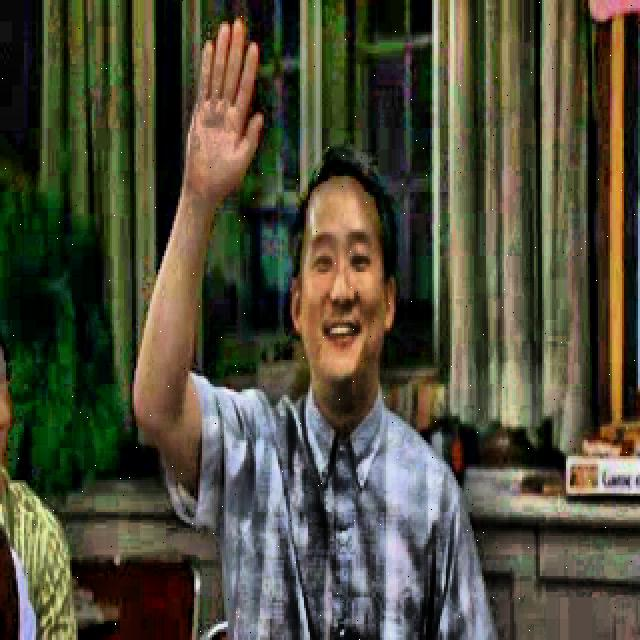T: (119, 12, 507, 640)
